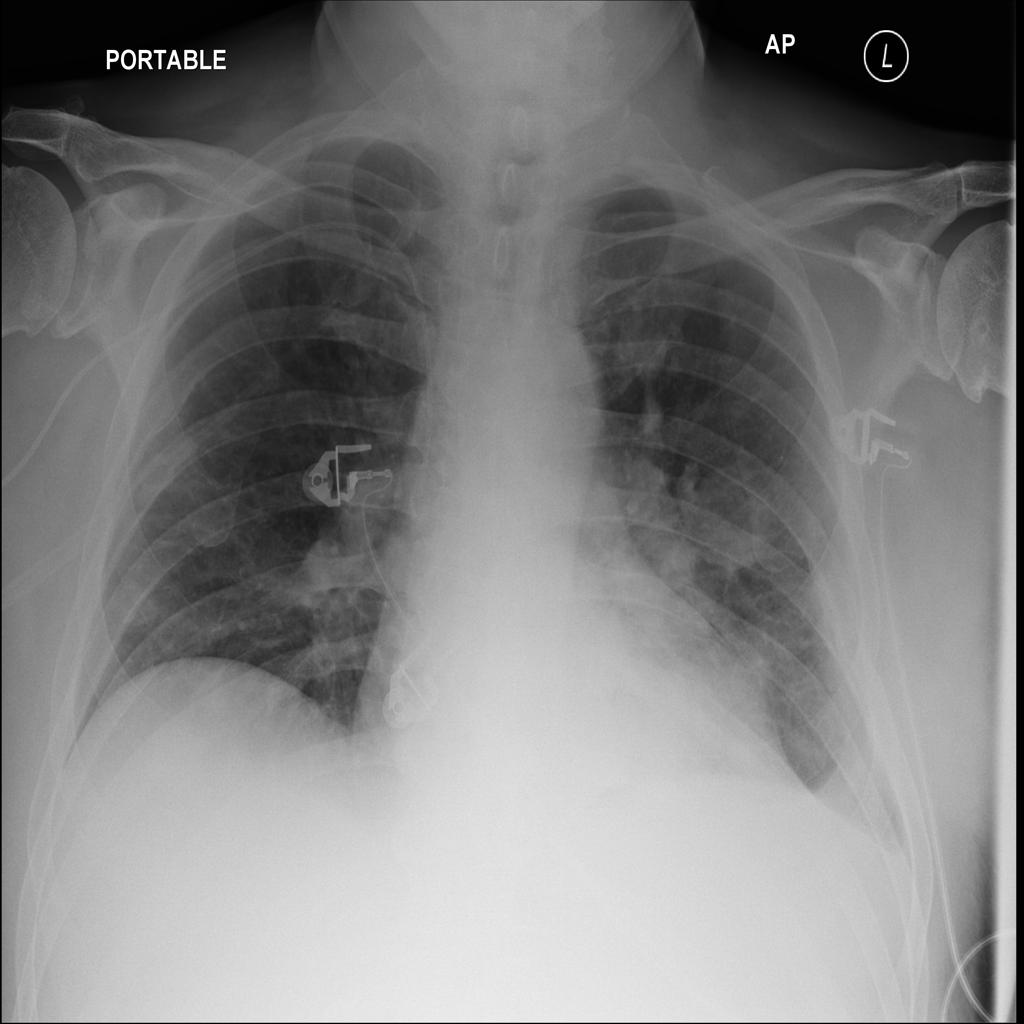nodule: (671, 445, 789, 584), (633, 521, 709, 601), (605, 314, 687, 388), (99, 567, 173, 643)
